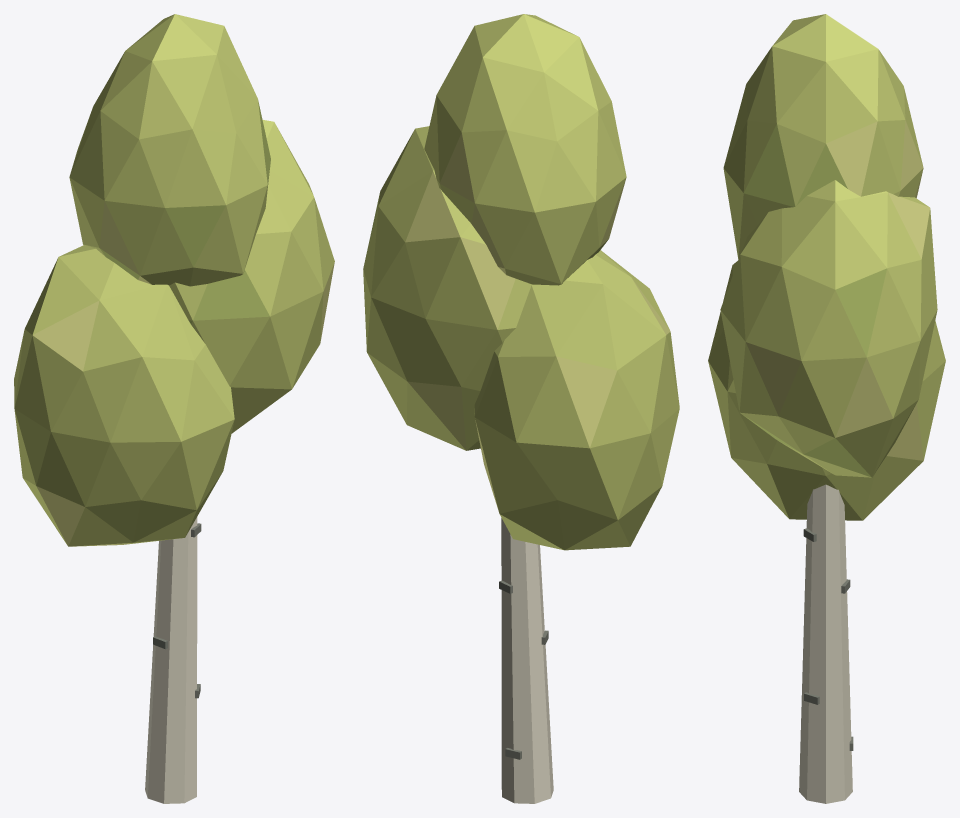
The model's file is tree-aspen.glb.
3 views of the same model, side by side, from view 1: azimuth 30°, elevation 25°; view 2: azimuth 150°, elevation 25°; view 3: azimuth 270°, elevation 25° (orthographic).
Parts seen in each view (by area): view 1: tree-aspen; view 2: tree-aspen; view 3: tree-aspen.
Boxes of the visible parts, box(x1,y1,x2,y2) form: tree-aspen: box(14, 14, 334, 803); tree-aspen: box(363, 14, 679, 803); tree-aspen: box(708, 14, 945, 803).
Size of the model in its own units: 1.44 by 3.68 by 1.02.
